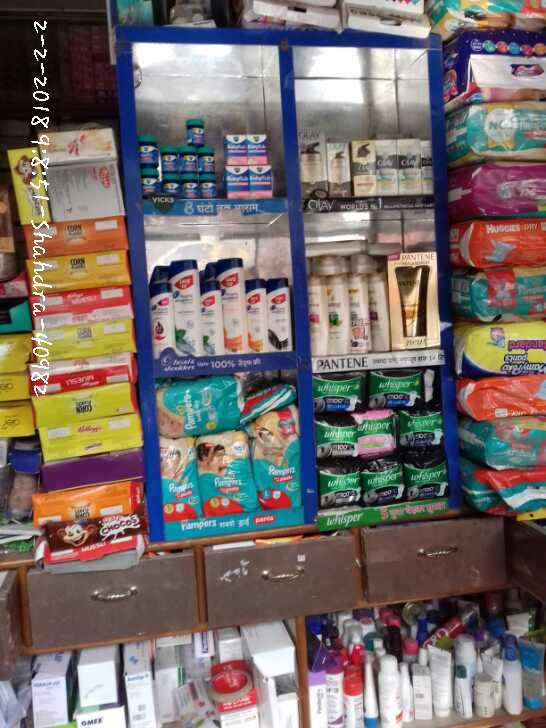vicks: (140, 114, 273, 198)
